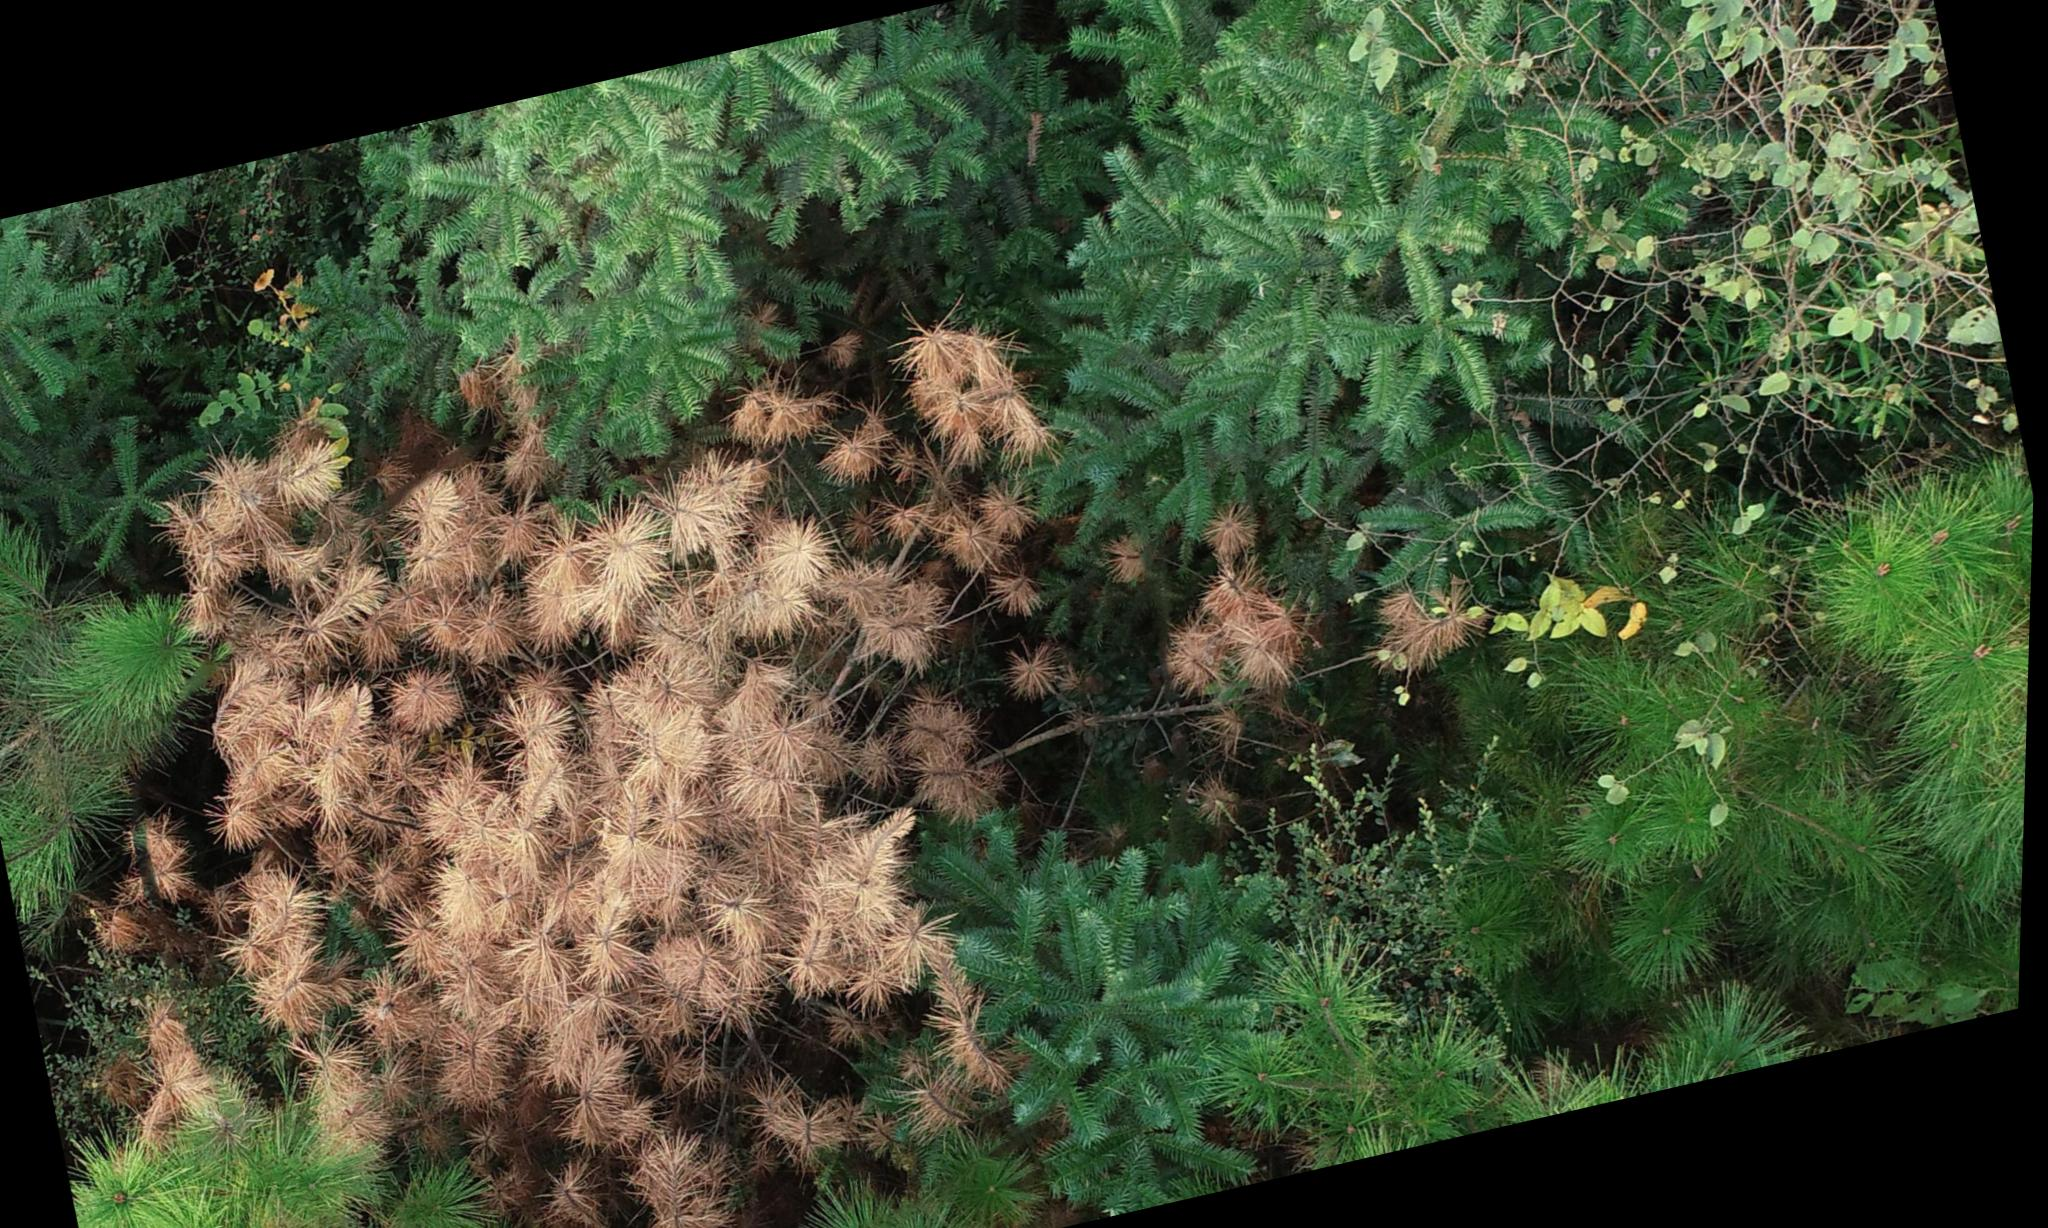heavy: (0, 175, 1433, 1228)
